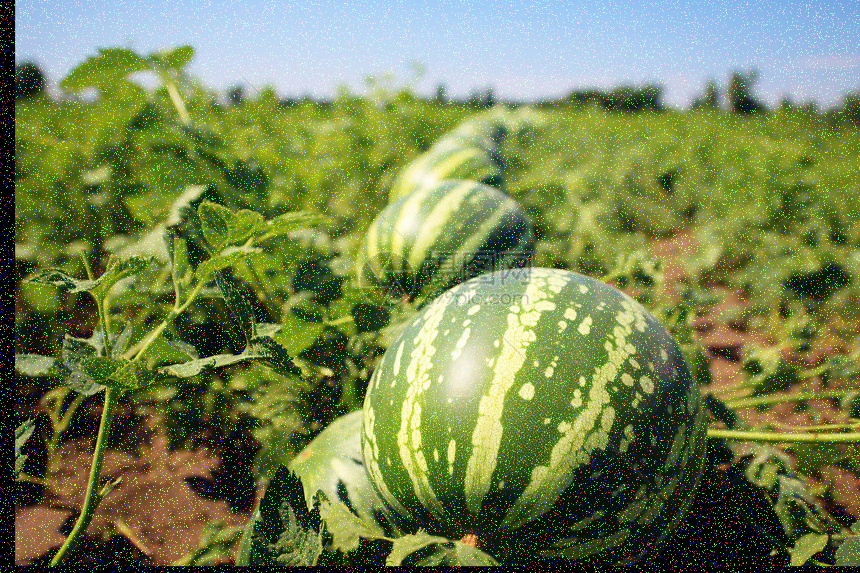watermelon: (362, 271, 704, 556), (358, 177, 536, 304)
